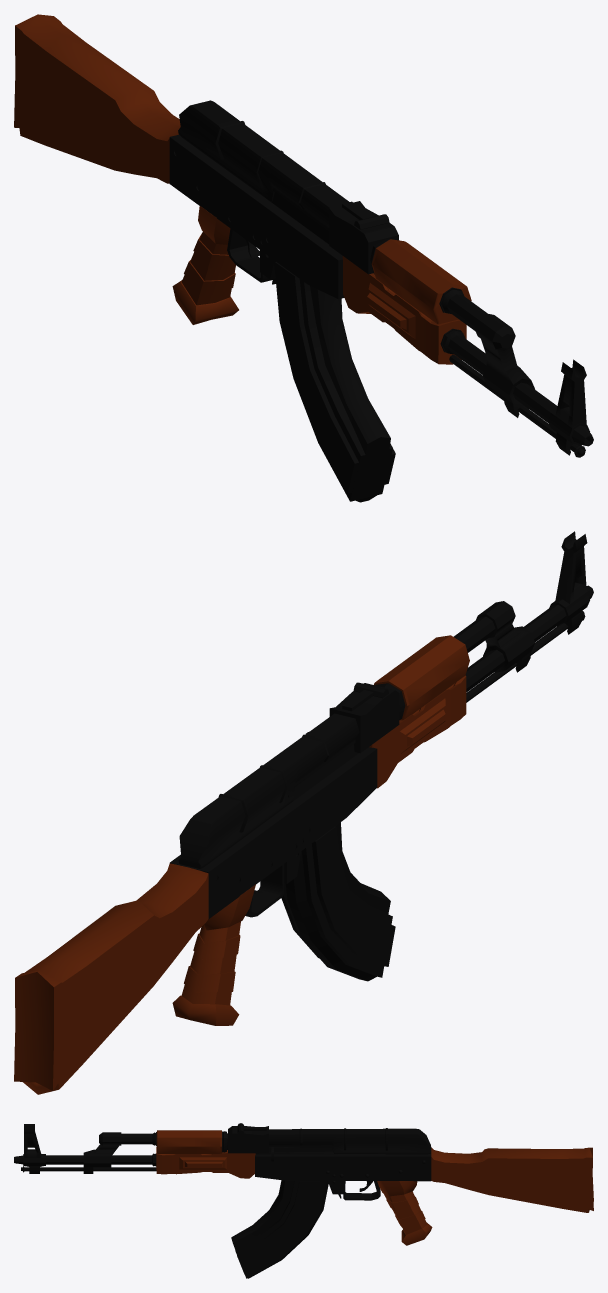
The model's file is gun.obj.
3 renders of one model, top to bottom at view 1: azimuth 30°, elevation 25°; view 2: azimuth 150°, elevation 25°; view 3: azimuth 270°, elevation 25°, orthographic. The views are drawn at different scales.
Parts seen in each view (by area): view 1: ak47 mainController wood sholder, metal ak47 mainController bigParts pCube3, metal ak47 mainController bigParts pCube5, metal ak47 mainController bigParts polySurface1, metal ak47 mainController bigParts polySurface5, ak47 mainController handGrip wood, ak47 mainController wood frontGrip, ak47 mainController wood woodPartFront, metal ak47 mainController pCube12 bigParts, smallParts metal ak47 mainController others pCylinder3, smallParts metal ak47 mainController others pCube8; view 2: ak47 mainController wood sholder, metal ak47 mainController bigParts pCube3, metal ak47 mainController bigParts pCube5, metal ak47 mainController bigParts polySurface5, metal ak47 mainController bigParts polySurface1, ak47 mainController handGrip wood, ak47 mainController wood woodPartFront, ak47 mainController wood frontGrip, metal ak47 mainController pCube12 bigParts, smallParts metal ak47 mainController others pCube8, smallParts metal ak47 mainController others pCylinder3; view 3: ak47 mainController wood sholder, metal ak47 mainController bigParts pCube5, metal ak47 mainController bigParts pCube3, metal ak47 mainController bigParts polySurface5, metal ak47 mainController bigParts polySurface1, ak47 mainController wood frontGrip, ak47 mainController handGrip wood, ak47 mainController wood woodPartFront, metal ak47 mainController pCube12 bigParts, smallParts metal ak47 mainController others pCylinder3, smallParts metal ak47 mainController others pCube8.
Part boxes in pixels (bbox=[...]): ak47 mainController wood sholder: bbox=[14, 14, 180, 183]; metal ak47 mainController bigParts pCube3: bbox=[274, 260, 395, 502]; metal ak47 mainController bigParts pCube5: bbox=[169, 134, 344, 299]; metal ak47 mainController bigParts polySurface1: bbox=[439, 287, 593, 455]; metal ak47 mainController bigParts polySurface5: bbox=[178, 100, 349, 231]; ak47 mainController handGrip wood: bbox=[172, 206, 238, 324]; ak47 mainController wood frontGrip: bbox=[342, 256, 466, 364]; ak47 mainController wood woodPartFront: bbox=[371, 239, 471, 324]; metal ak47 mainController pCube12 bigParts: bbox=[329, 201, 398, 274]; smallParts metal ak47 mainController others pCylinder3: bbox=[449, 355, 585, 457]; smallParts metal ak47 mainController others pCube8: bbox=[227, 228, 272, 282]; ak47 mainController wood sholder: bbox=[14, 863, 208, 1094]; metal ak47 mainController bigParts pCube3: bbox=[281, 822, 395, 981]; metal ak47 mainController bigParts pCube5: bbox=[170, 744, 377, 919]; metal ak47 mainController bigParts polySurface5: bbox=[178, 713, 359, 868]; metal ak47 mainController bigParts polySurface1: bbox=[453, 531, 593, 692]; ak47 mainController handGrip wood: bbox=[172, 884, 255, 1025]; ak47 mainController wood woodPartFront: bbox=[374, 635, 469, 720]; ak47 mainController wood frontGrip: bbox=[369, 675, 466, 788]; metal ak47 mainController pCube12 bigParts: bbox=[329, 683, 399, 753]; smallParts metal ak47 mainController others pCube8: bbox=[245, 864, 284, 917]; smallParts metal ak47 mainController others pCylinder3: bbox=[466, 611, 585, 702]; ak47 mainController wood sholder: bbox=[431, 1147, 593, 1212]; metal ak47 mainController bigParts pCube5: bbox=[255, 1147, 431, 1181]; metal ak47 mainController bigParts pCube3: bbox=[231, 1180, 328, 1278]; metal ak47 mainController bigParts polySurface5: bbox=[269, 1128, 430, 1154]; metal ak47 mainController bigParts polySurface1: bbox=[14, 1124, 156, 1173]; ak47 mainController wood frontGrip: bbox=[156, 1147, 255, 1178]; ak47 mainController handGrip wood: bbox=[377, 1181, 432, 1245]; ak47 mainController wood woodPartFront: bbox=[156, 1130, 221, 1153]; metal ak47 mainController pCube12 bigParts: bbox=[228, 1126, 268, 1153]; smallParts metal ak47 mainController others pCylinder3: bbox=[21, 1166, 156, 1172]; smallParts metal ak47 mainController others pCube8: bbox=[343, 1181, 380, 1200].
Size of the model in its own units: 0.8092 by 3.71 by 12.83.
